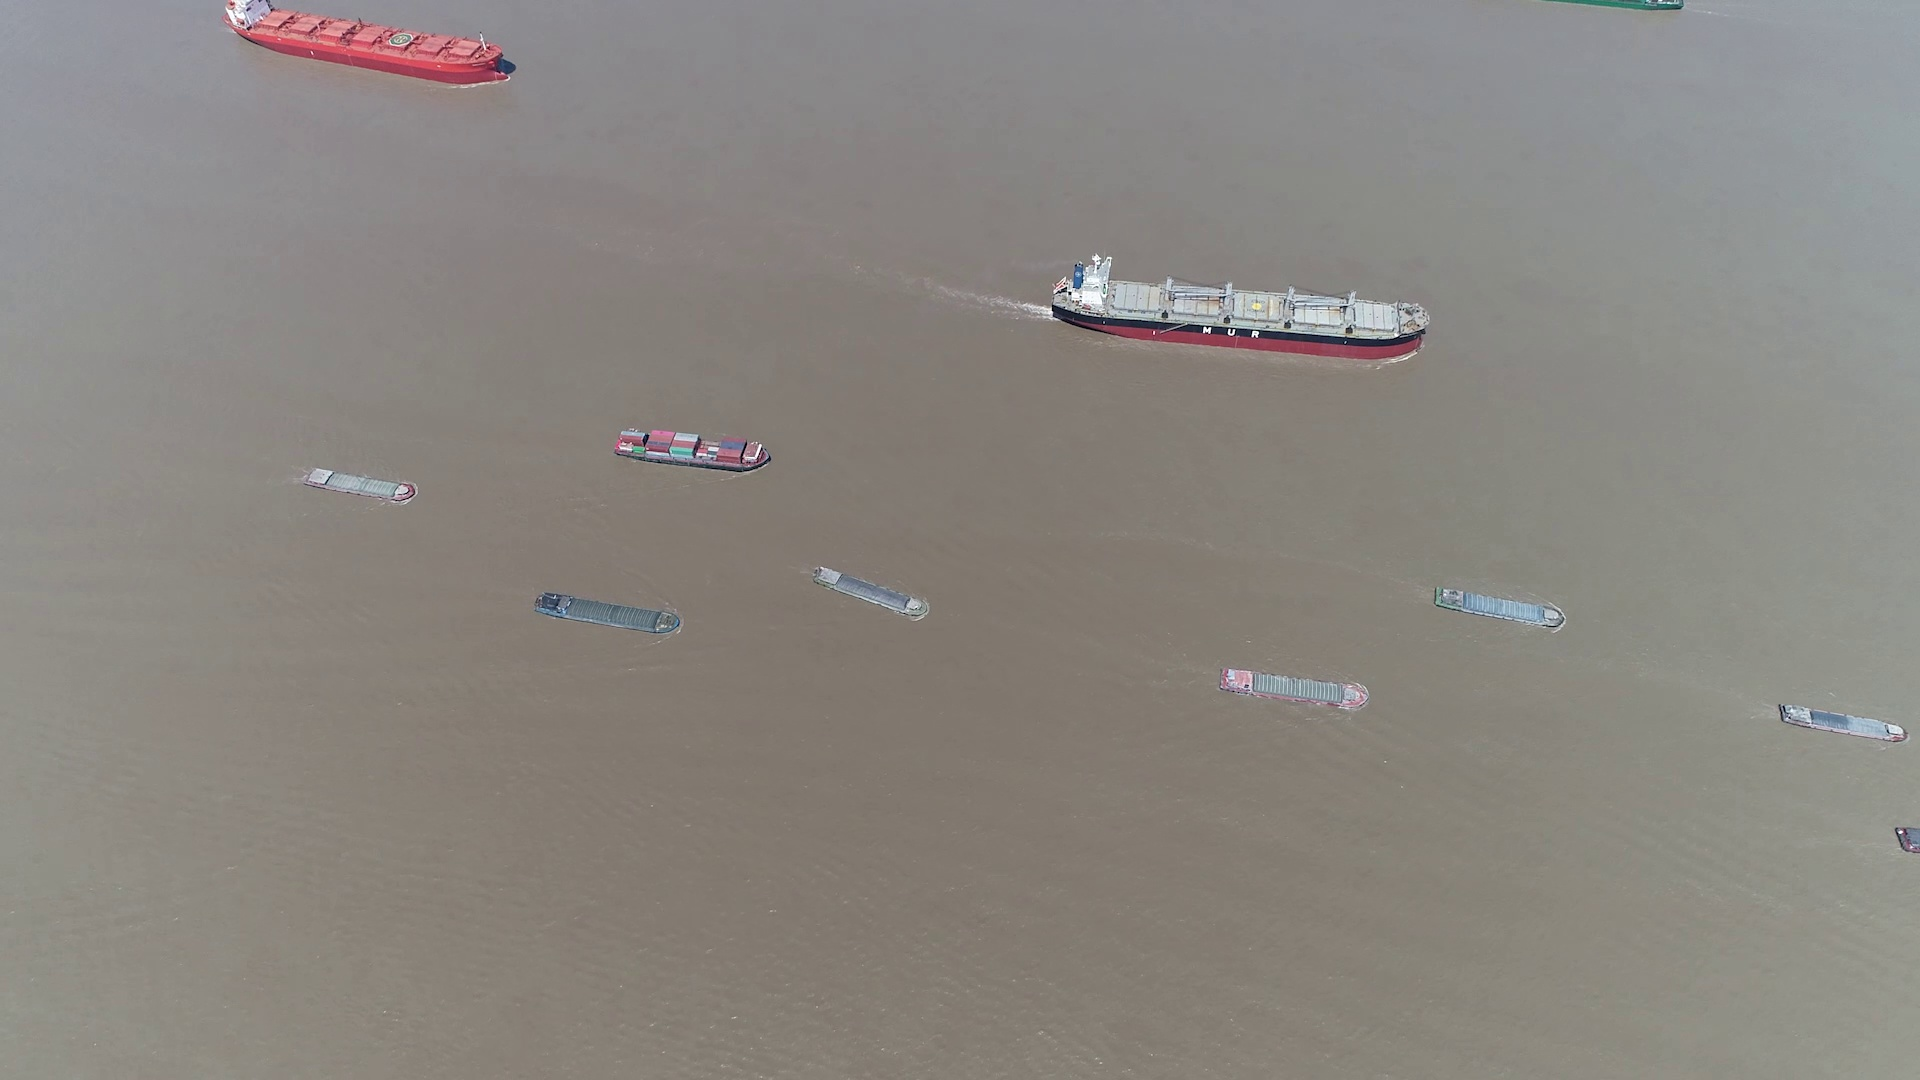ship: (1058, 258, 1425, 355), (223, 0, 516, 84), (535, 591, 684, 636), (1217, 669, 1371, 711), (617, 430, 771, 472), (814, 570, 926, 621), (1432, 587, 1564, 630), (1776, 702, 1904, 742), (303, 465, 415, 502), (1557, 0, 1681, 11)
